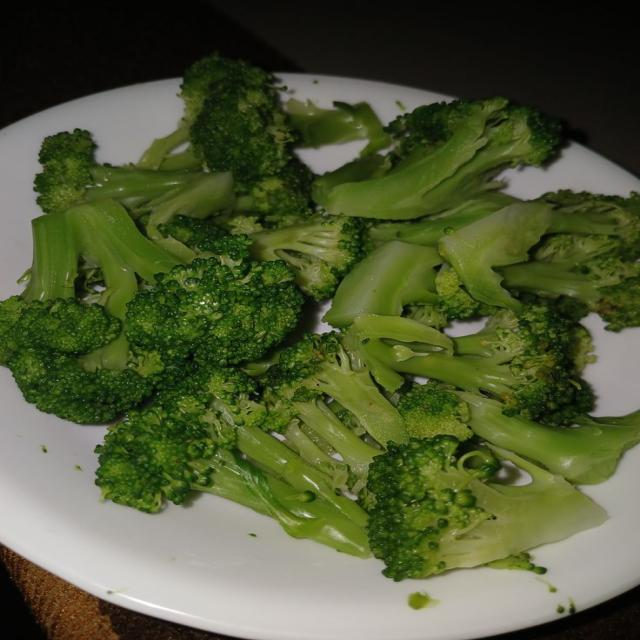broccoli: (2, 200, 303, 423), (96, 366, 370, 557), (0, 201, 179, 423), (367, 436, 606, 580), (313, 97, 560, 219), (348, 308, 593, 422), (34, 130, 240, 260), (181, 54, 312, 226), (457, 392, 639, 484), (266, 332, 407, 444), (323, 241, 442, 328), (499, 258, 639, 331), (249, 214, 363, 300), (368, 191, 519, 246), (533, 190, 639, 262), (285, 98, 391, 156)
